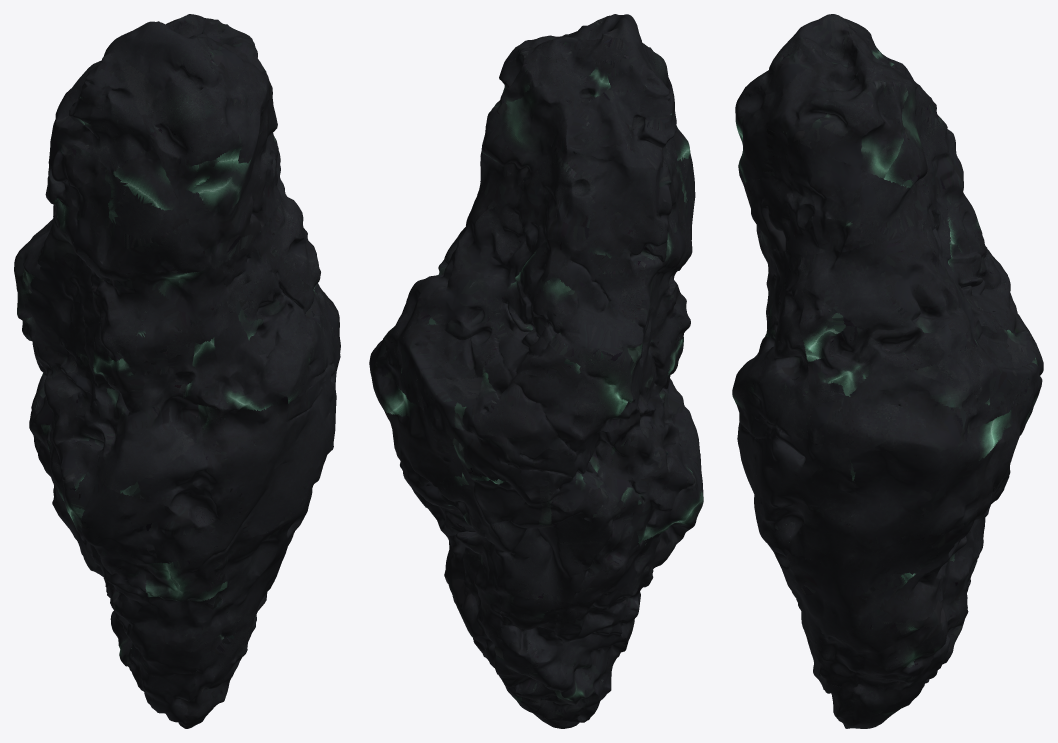
The model's file is shard-03-low.glb.
3 renders of one model, left to right at view 1: azimuth 30°, elevation 25°; view 2: azimuth 150°, elevation 25°; view 3: azimuth 270°, elevation 25°, orthographic. The views are drawn at different scales.
Visible parts, largest first — view 1: Mesh_0; view 2: Mesh_0; view 3: Mesh_0.
Part boxes in pixels (x1=…): Mesh_0: x1=14, y1=14, x2=340, y2=728; Mesh_0: x1=369, y1=14, x2=703, y2=728; Mesh_0: x1=732, y1=14, x2=1043, y2=728.
Bounding box in the file's own units: 0.7923 × 1.9 × 0.7747.
1 material, 1 textured.
